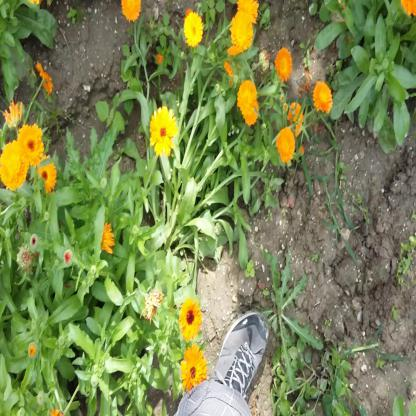marigold: (0, 140, 29, 189), (149, 107, 174, 156), (181, 342, 205, 393), (18, 124, 46, 166), (179, 299, 201, 340), (230, 11, 253, 50), (237, 80, 258, 121), (276, 124, 296, 161), (36, 154, 56, 190), (275, 46, 293, 81), (313, 81, 333, 112), (184, 11, 202, 43), (237, 0, 259, 22), (122, 0, 140, 20)
